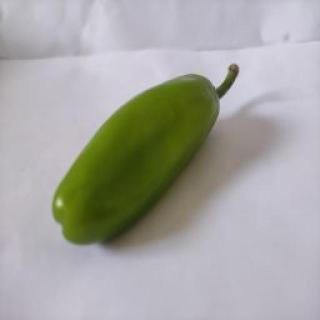Cabai Hijau: (44, 59, 242, 251)
